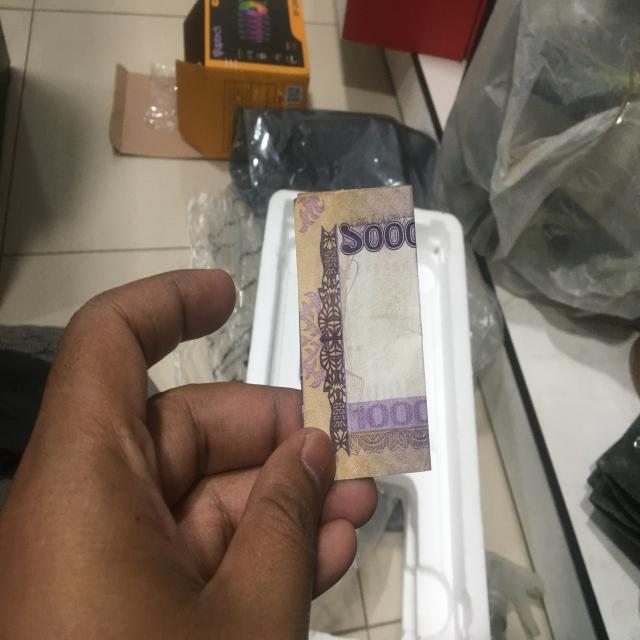Taka: (294, 190, 439, 475)
